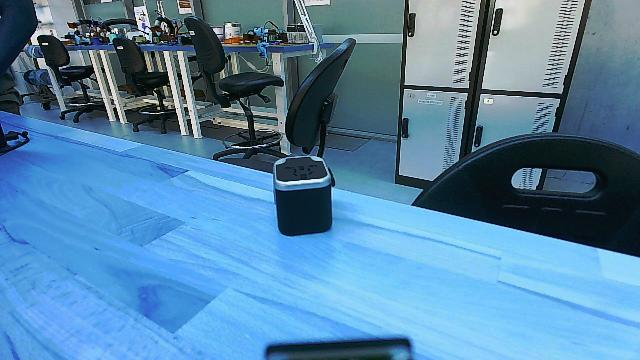adapter: (270, 155, 338, 239)
